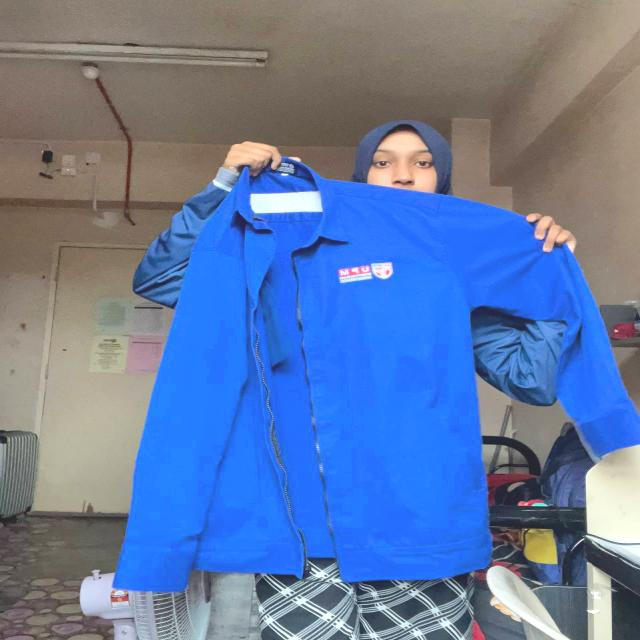person_without_labcoat: (114, 121, 639, 640)
